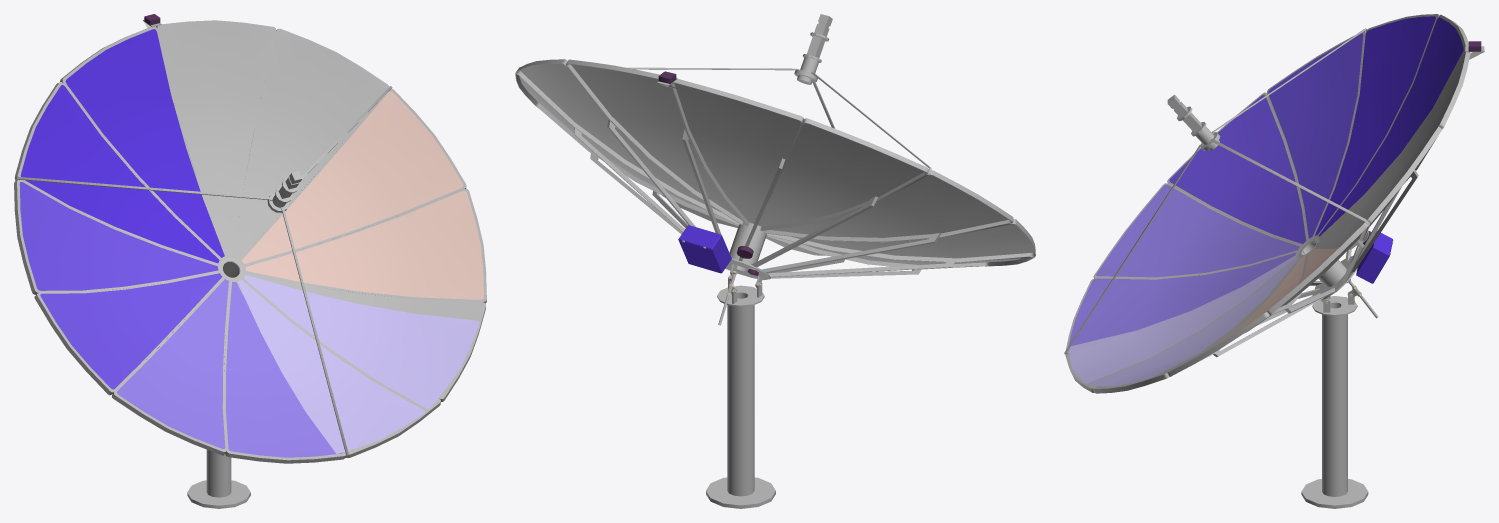
File: radar1.glb
3 renders of one model, left to right at view 1: azimuth 30°, elevation 25°; view 2: azimuth 150°, elevation 25°; view 3: azimuth 270°, elevation 25°, orthographic. The views are drawn at different scales.
Visible parts, largest first — view 1: radar_02, Obj_radar_01, radar_06, radar_03, radar_a, radar_05, radar_04, radar_c; view 2: radar_a, radar_c, control_unit_color; view 3: radar_05, radar_04, radar_a, radar_06, radar_03, radar_c, Obj_radar_01, radar_02, control_unit_color.
Boxes of the visible parts, x1,y1,x2,y2 form: radar_02: [241, 91, 483, 299]; Obj_radar_01: [160, 23, 386, 258]; radar_06: [20, 29, 224, 263]; radar_03: [238, 275, 479, 455]; radar_a: [14, 20, 486, 463]; radar_05: [19, 182, 222, 389]; radar_04: [117, 279, 343, 457]; radar_c: [187, 450, 250, 508]; radar_a: [515, 14, 1035, 279]; radar_c: [706, 285, 775, 508]; control_unit_color: [678, 225, 731, 273]; radar_05: [1169, 33, 1363, 243]; radar_04: [1068, 184, 1299, 350]; radar_a: [1064, 14, 1470, 393]; radar_06: [1315, 16, 1463, 236]; radar_03: [1068, 256, 1299, 386]; radar_c: [1301, 296, 1368, 508]; Obj_radar_01: [1315, 53, 1463, 246]; radar_02: [1170, 247, 1339, 369]; control_unit_color: [1356, 231, 1393, 283].
Bounding box in the file's own units: 3.02 × 2.85 × 2.41.
